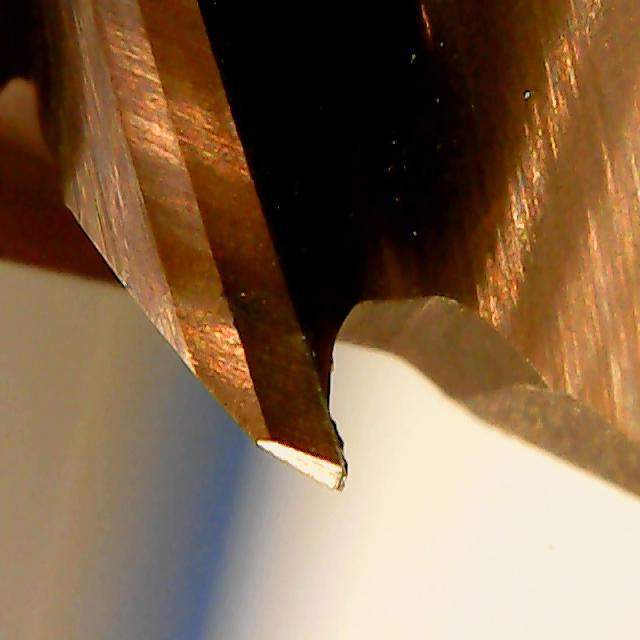Tool-wear-class-1: (213, 314, 362, 506)
